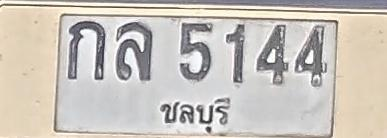1: (225, 22, 246, 85)
4: (294, 24, 326, 87), (256, 23, 288, 85)
5: (179, 22, 213, 82)
A01: (67, 20, 106, 80)
A36: (115, 21, 152, 81)
CBI: (154, 91, 235, 133)
